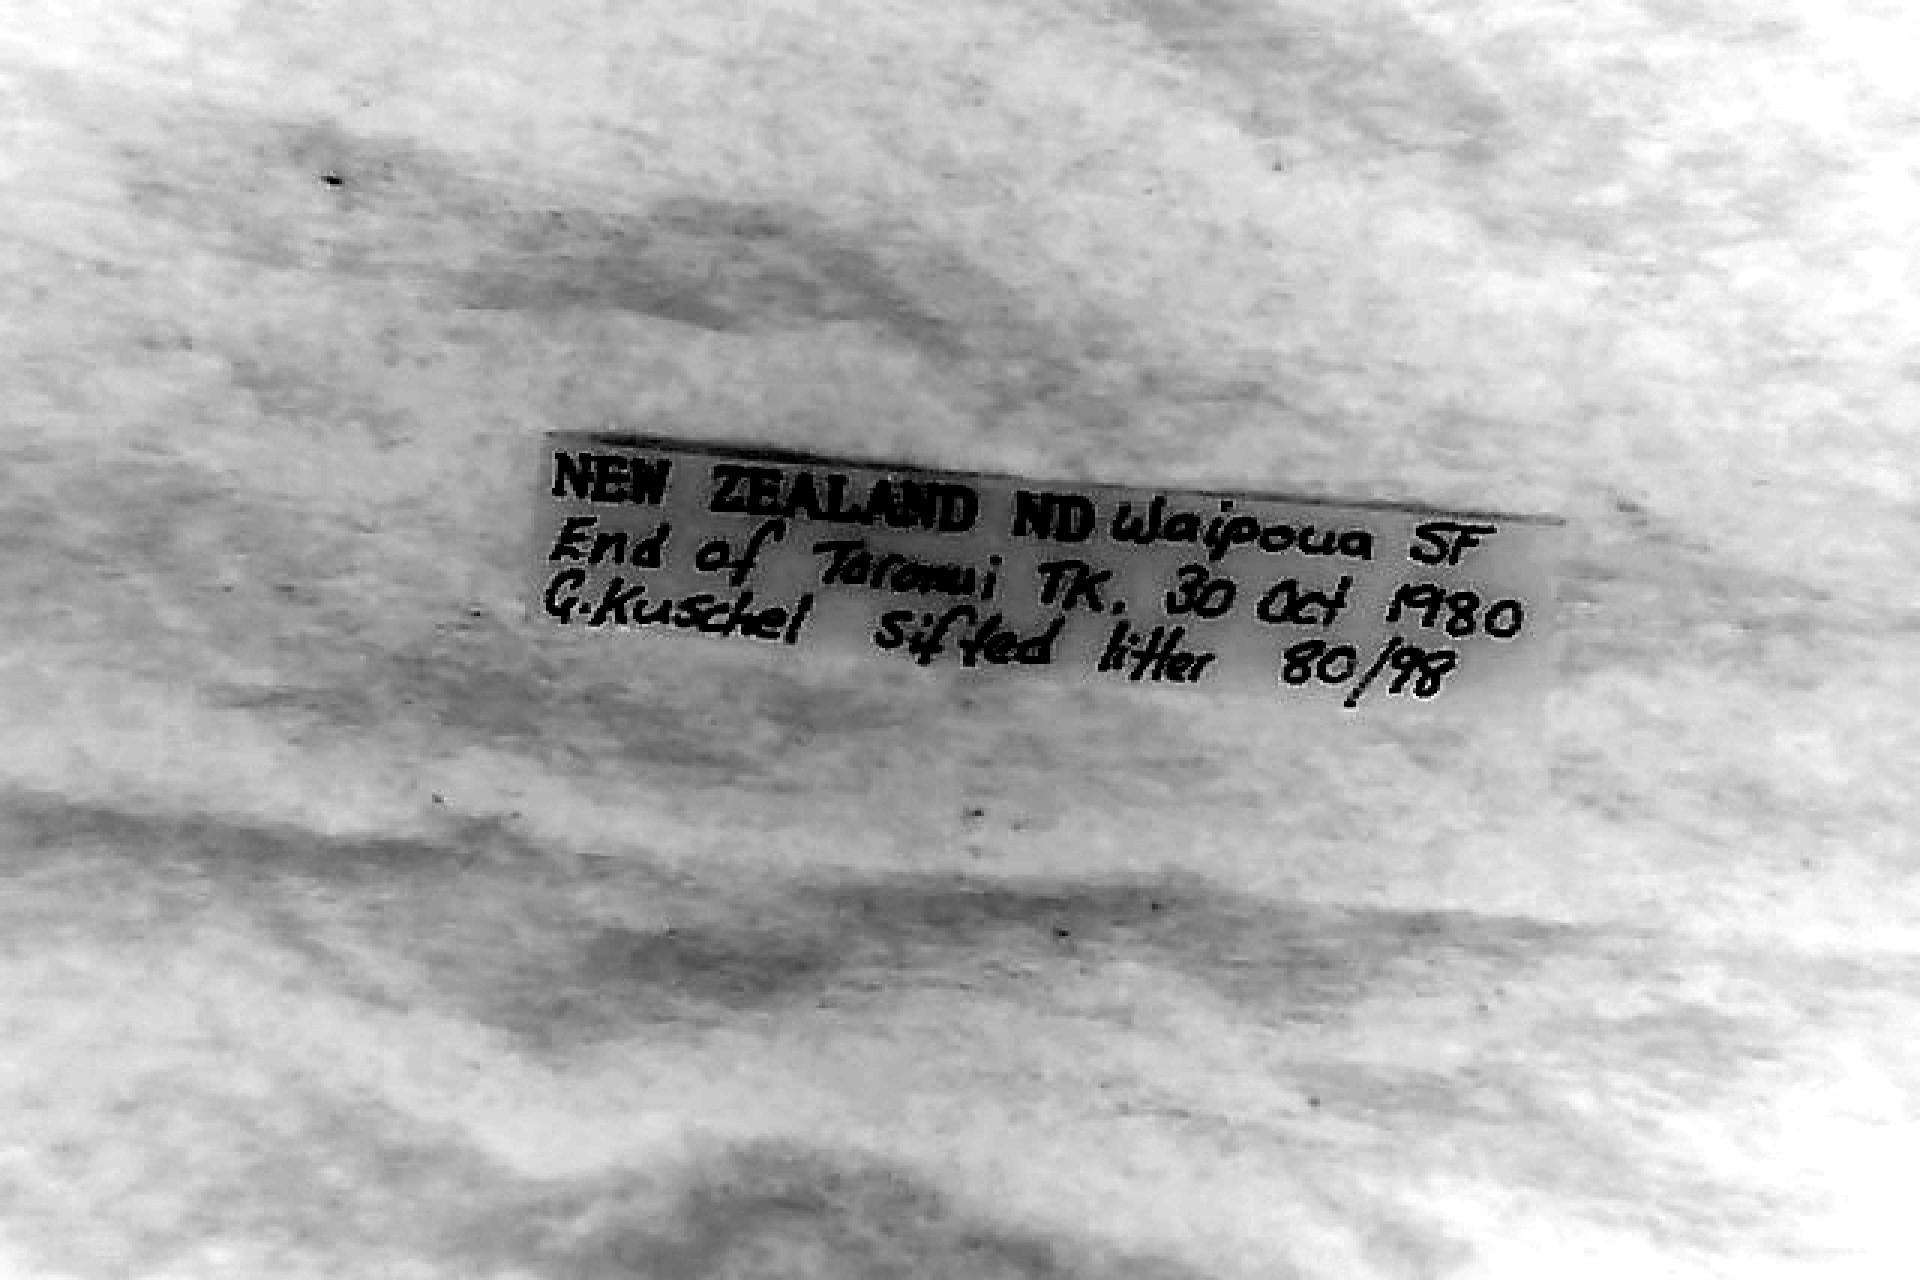mixed_label: (533, 433, 1560, 710)
